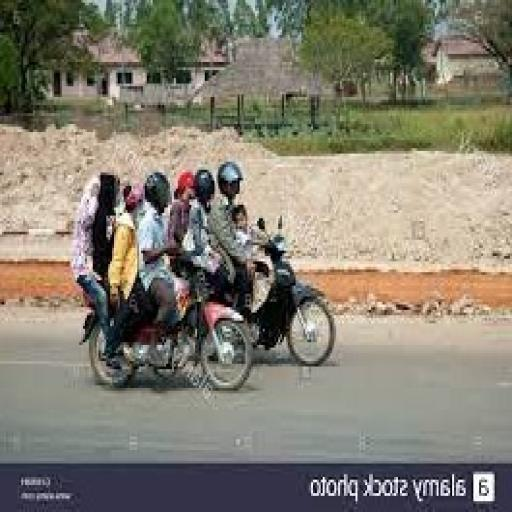overloading: (77, 256, 255, 393)
